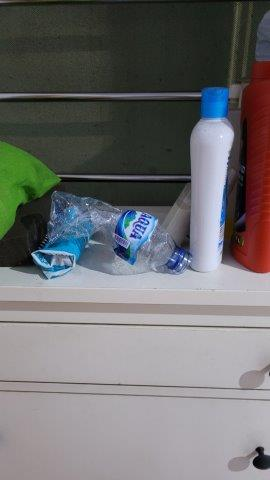botolplastik: (47, 189, 192, 274)
